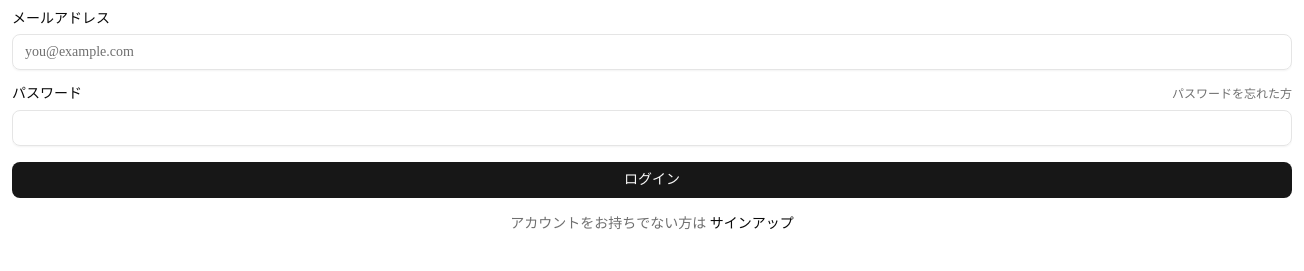
LoginForm › メールアドレスが不正な形式のとき、Zod のメッセージを表示する
Type "user@localhost" into the field labelled "メールアドレス" at [652, 52], box 12,34 -> 1292,70
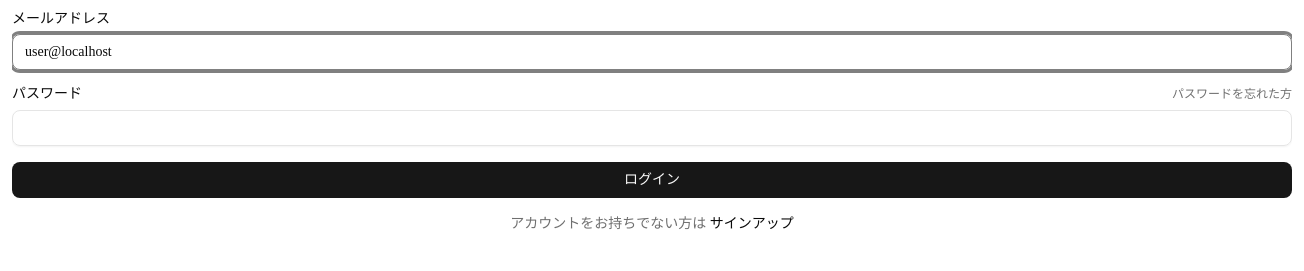
Type "password123" into the password field labelled "パスワード" at [652, 128], box 12,110 -> 1292,146
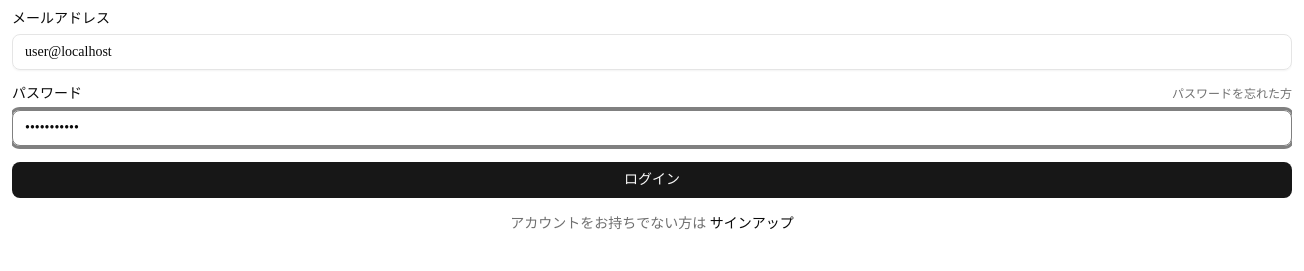
Click the button "ログイン" at [652, 180], box 12,162 -> 1292,198
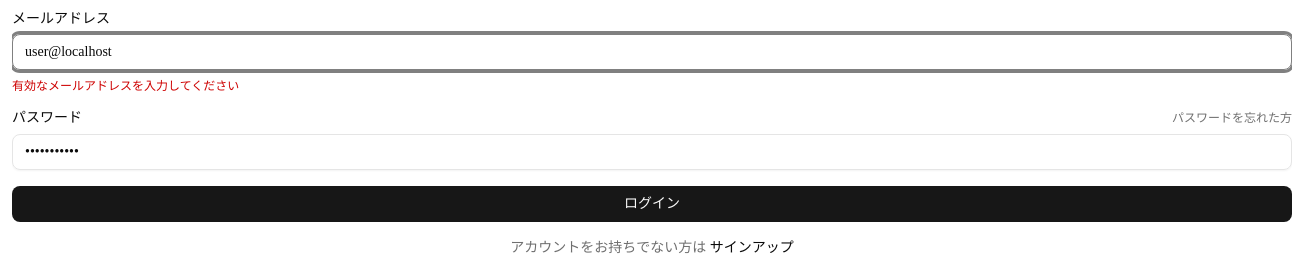
Now the text "有効なメールアドレスを入力してください" is shown, box 12,79 -> 239,93
